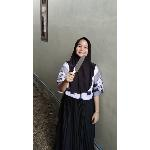Pisau: (70, 53, 90, 77)
